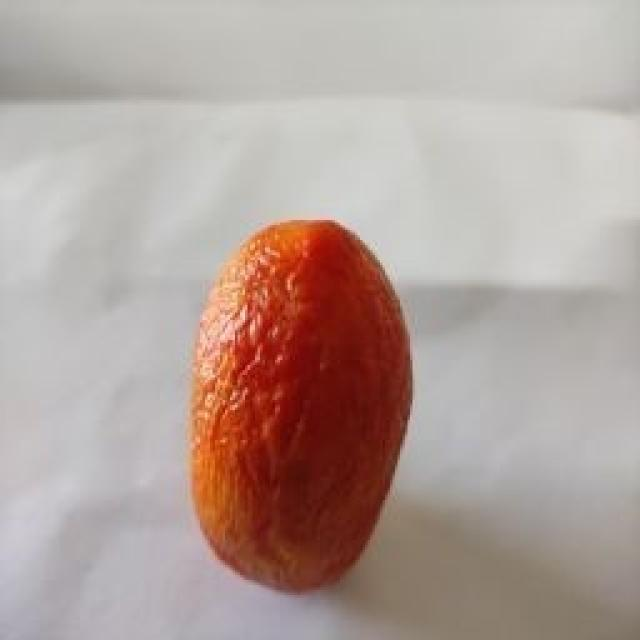overripe: (189, 216, 418, 593)
